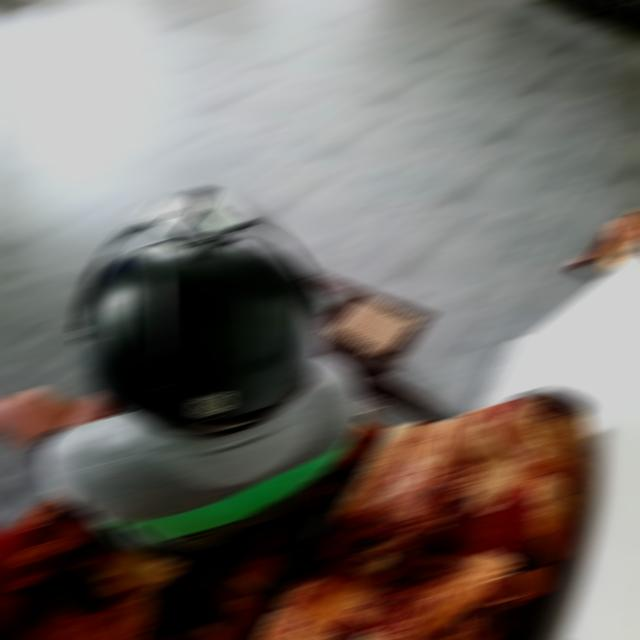With Helmet: (70, 186, 330, 431)
